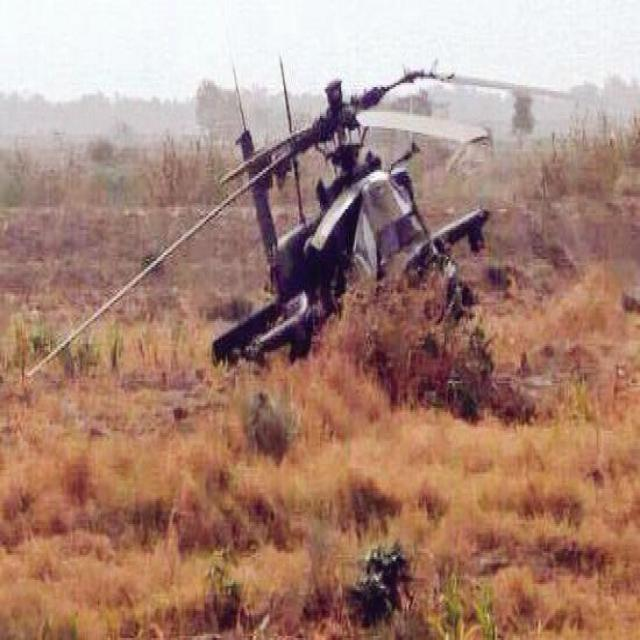MIL_HELO: (28, 56, 498, 437)
